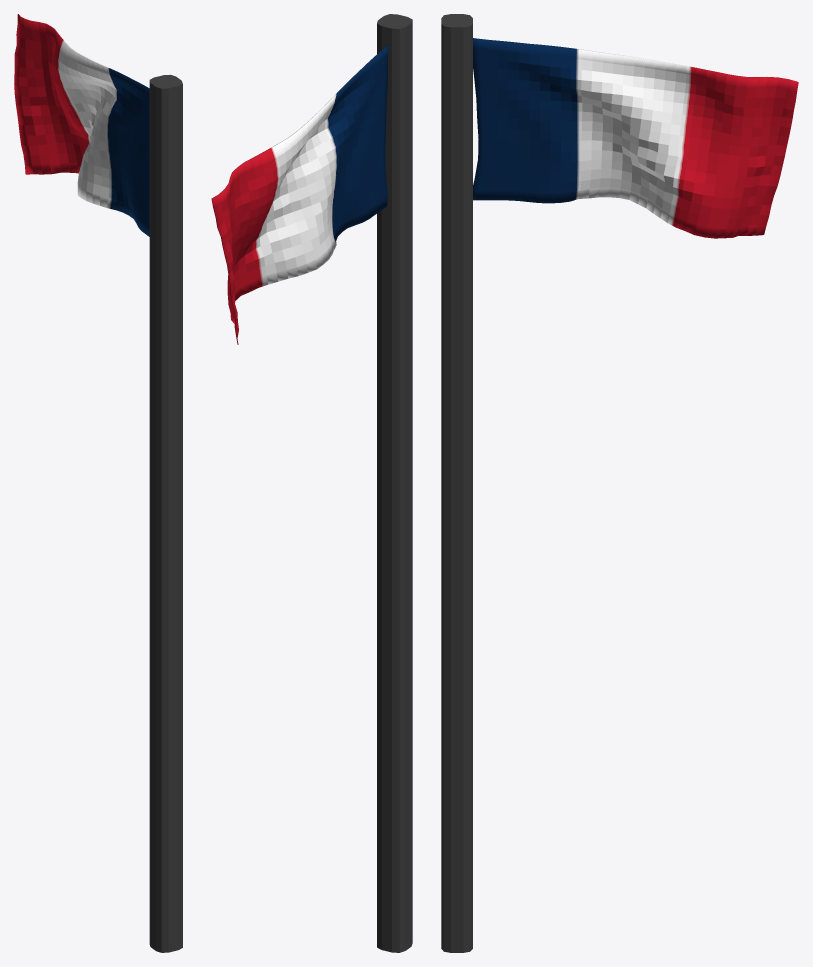
File: flag.obj
3 views of the same model, side by side, from view 1: azimuth 30°, elevation 25°; view 2: azimuth 150°, elevation 25°; view 3: azimuth 270°, elevation 25° (orthographic). The views are drawn at different scales.
Visible parts, largest first — view 1: Cube_Cube.001, Cylinder; view 2: Cube_Cube.001, Cylinder; view 3: Cylinder, Cube_Cube.001.
Part boxes in pixels (x1,y1,x2,y2): Cube_Cube.001: (149,74,182,952); Cylinder: (14,14,149,236); Cube_Cube.001: (377,14,412,952); Cylinder: (211,45,387,344); Cylinder: (473,38,798,238); Cube_Cube.001: (441,14,472,952).
Bounding box in the file's own units: 0.195 × 3.39 × 1.19.
1 material, 1 textured.
